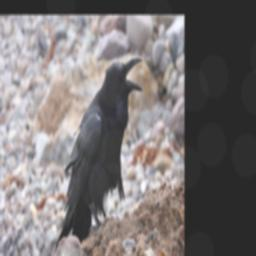Crow: (53, 58, 143, 254)
